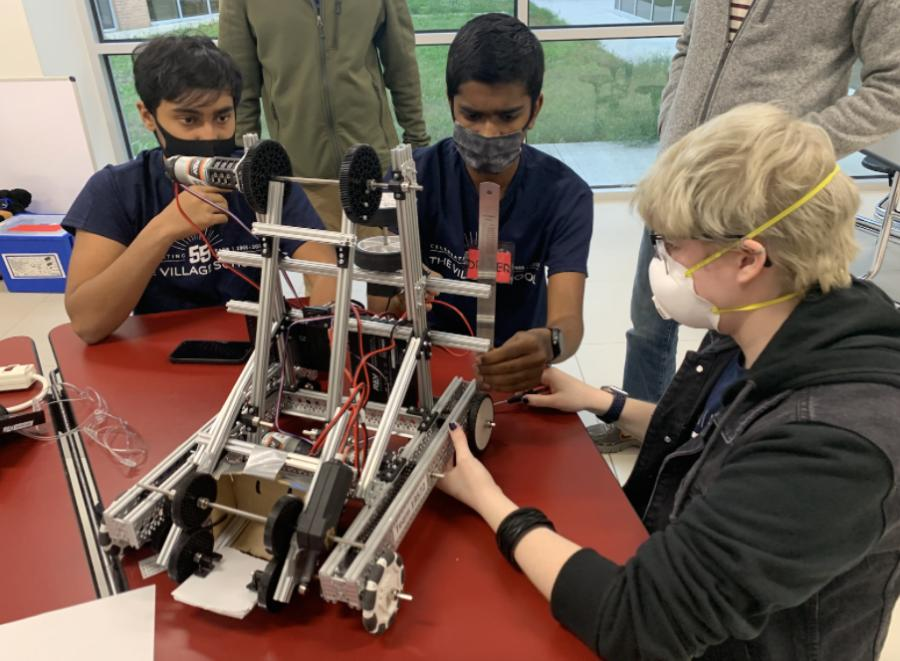robot: (78, 131, 514, 653)
